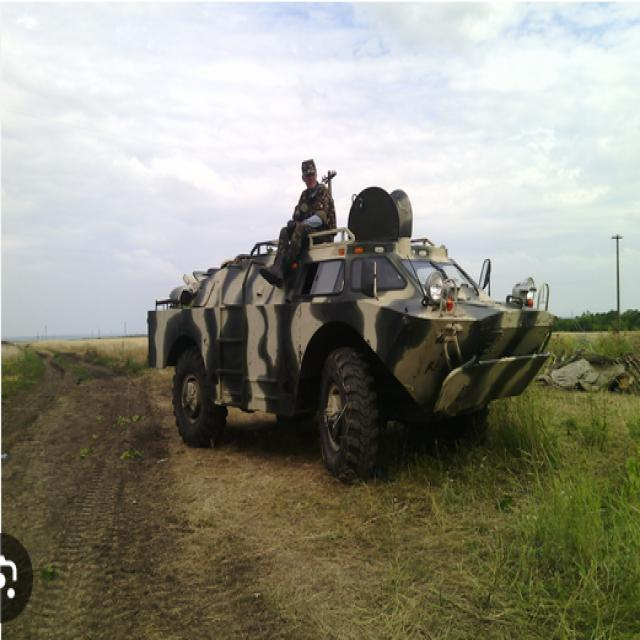MIL_APC: (136, 197, 568, 459)
